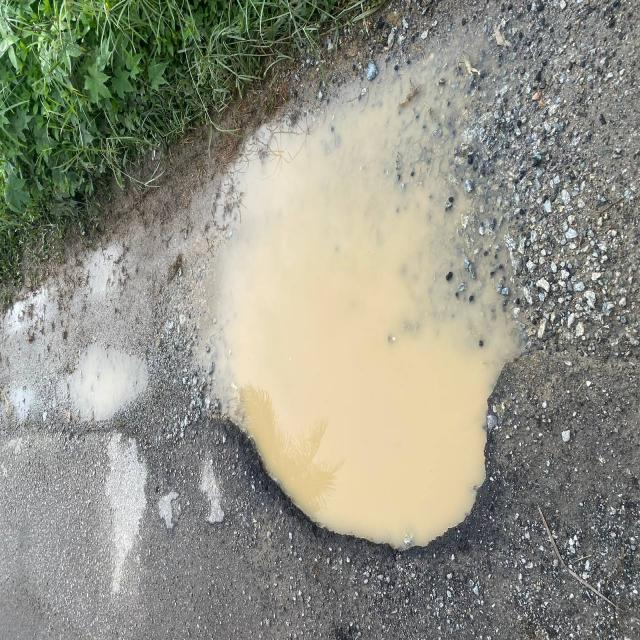Pothole: (146, 199, 578, 568)
